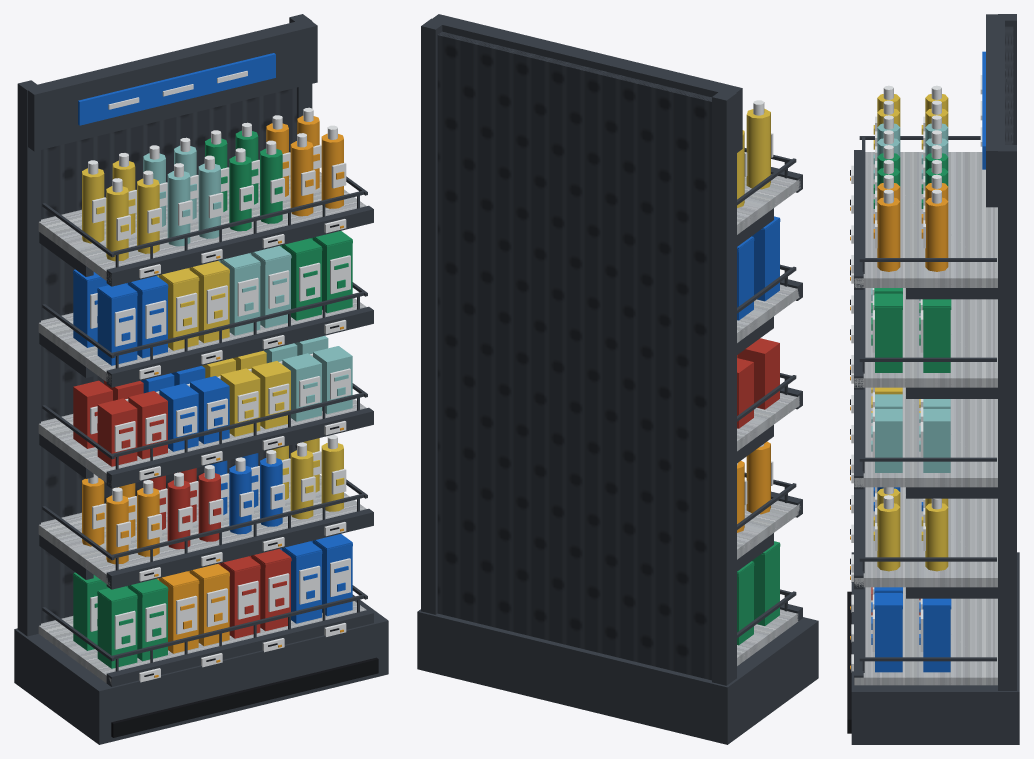
The model's file is shelf-dark-tall.glb.
3 renders of one model, left to right at view 1: azimuth 30°, elevation 25°; view 2: azimuth 150°, elevation 25°; view 3: azimuth 270°, elevation 25°, orthographic. The views are drawn at different scales.
Parts seen in each view (by area): view 1: stock-labels_eef1f4, ShelfDarkTall, shelf-back, shelf-base, shelf-header, shelf-details_3c434c, shelf-post-left, stock-packages_1b6fd6, stock-packages_bc3a2f, stock-packages_1f9c63, stock-bottles_f0a128, stock-bottles_e6c543 (+23 smaller); view 2: shelf-back, shelf-base, shelf-post-left, shelf-post-right, shelf-header, shelf-details_3c434c, stock-packages_1f9c63, stock-packages_1b6fd6, stock-packages_bc3a2f, stock-bottles_e6c543, stock-bottles_f0a128, shelf-deck-4 (+5 smaller); view 3: shelf-deck-4, shelf-base, shelf-post-right, shelf-details_3c434c, shelf-deck-1, shelf-deck-2, shelf-deck-3, shelf-deck-0, ShelfDarkTall, stock-packages_1b6fd6, stock-bottles_e6c543, stock-packages_8ccaca (+11 smaller).
Part boxes in pixels (x1,y1,x2,y2): stock-labels_eef1f4: (90,144,350,682); ShelfDarkTall: (78,53,373,686); shelf-back: (41,87,296,623); shelf-base: (14,594,388,744); shelf-header: (28,21,317,151); shelf-details_3c434c: (39,176,367,671); shelf-post-left: (17,80,40,636); stock-packages_1b6fd6: (73,269,352,623); stock-packages_bc3a2f: (73,380,290,638); stock-packages_1f9c63: (73,231,352,668); stock-bottles_f0a128: (82,115,343,564); stock-bottles_e6c543: (82,160,343,519); shelf-back: (437,31,711,680); shelf-base: (417,609,818,744); shelf-post-left: (712,89,736,685); shelf-post-right: (421,18,445,614); shelf-header: (430,14,742,152); shelf-details_3c434c: (737,148,796,638); stock-packages_1f9c63: (737,541,779,645); stock-packages_1b6fd6: (737,216,779,320); stock-packages_bc3a2f: (737,338,779,428); stock-bottles_e6c543: (737,108,770,207); stock-bottles_f0a128: (737,441,770,532); shelf-deck-4: (737,174,800,234); shelf-deck-4: (854,152,997,287); shelf-base: (851,552,1019,744); shelf-post-right: (998,145,1016,690); shelf-details_3c434c: (859,136,997,672); shelf-deck-1: (854,487,997,587); shelf-deck-2: (854,387,997,487); shelf-deck-3: (854,288,997,387); shelf-deck-0: (854,587,997,685); ShelfDarkTall: (854,51,985,684); stock-packages_1b6fd6: (875,587,950,672); stock-bottles_e6c543: (877,94,948,571); stock-packages_8ccaca: (875,394,950,472).
Bounding box in the file's own units: 0.96 × 1.9 × 0.5.
15 materials, 2 textured.
